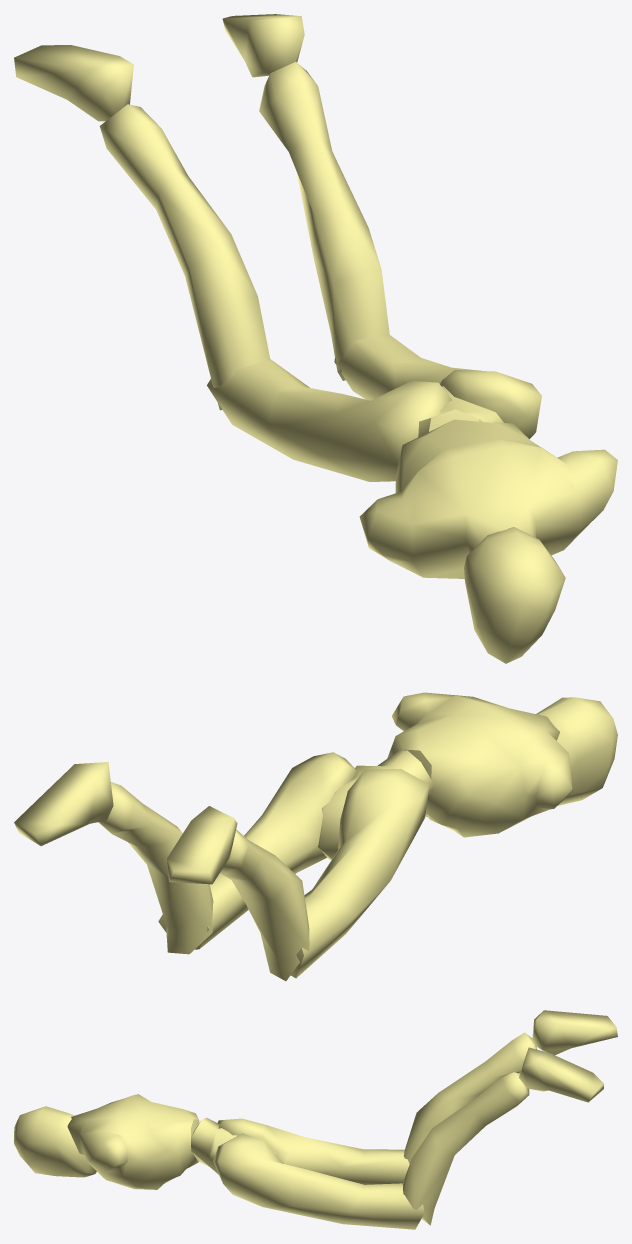
Rendered from filth34.obj.
The picture shows the model from 3 angles, top to bottom: view 1: azimuth 30°, elevation 25°; view 2: azimuth 150°, elevation 25°; view 3: azimuth 270°, elevation 25°; orthographic projection. The views are drawn at different scales.
Parts seen in each view (by area): view 1: Melee_Husk; view 2: Melee_Husk; view 3: Melee_Husk.
Boxes of the visible parts, x1,y1,x2,y2 form: Melee_Husk: [14, 14, 617, 663]; Melee_Husk: [14, 692, 617, 980]; Melee_Husk: [14, 1010, 617, 1229].
Bounding box in the file's own units: 26.03 × 25.57 × 77.85.
